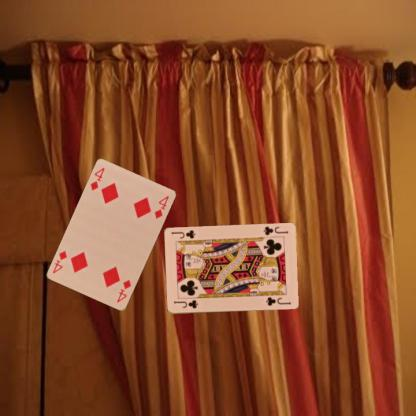4d: (88, 165, 106, 192), (115, 277, 132, 304)
Jc: (260, 224, 289, 236), (172, 298, 198, 310)
